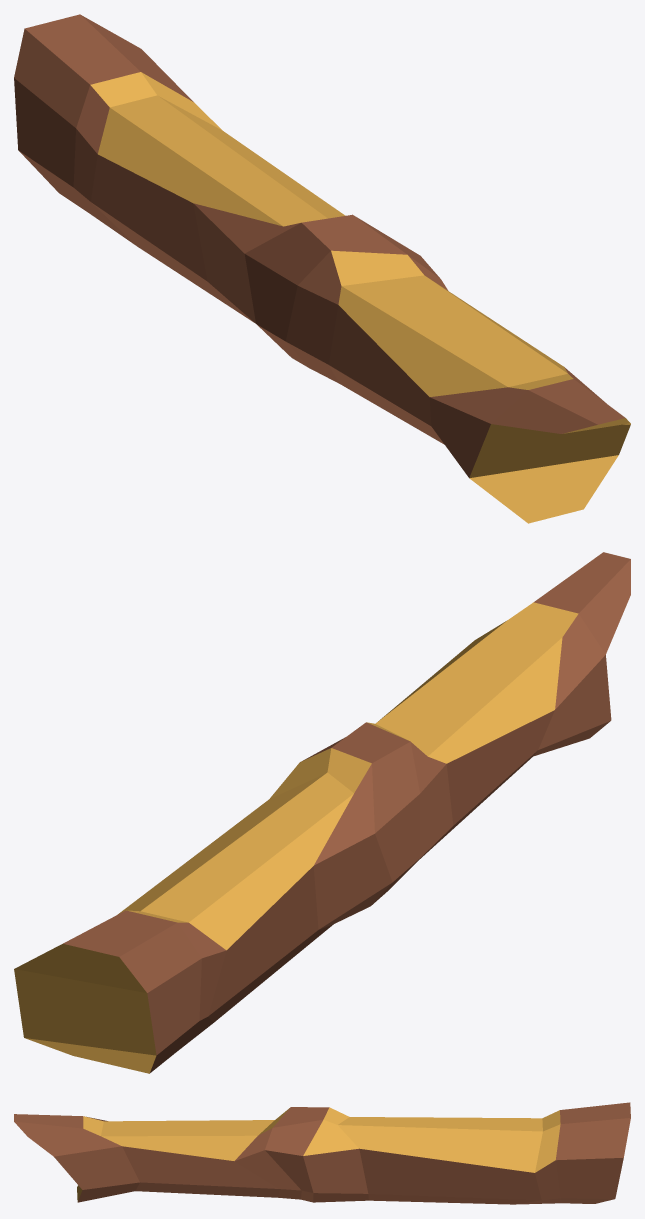
File: log_2.fbx
The picture shows the model from 3 angles, top to bottom: view 1: azimuth 30°, elevation 25°; view 2: azimuth 150°, elevation 25°; view 3: azimuth 270°, elevation 25°; orthographic projection. The views are drawn at different scales.
Parts seen in each view (by area): view 1: log_2; view 2: log_2; view 3: log_2.
Part boxes in pixels (x1,y1,x2,y2): log_2: (14,14,630,523); log_2: (14,552,630,1073); log_2: (14,1102,630,1204).
Bounding box in the file's own units: 81.5 × 81.05 × 553.
